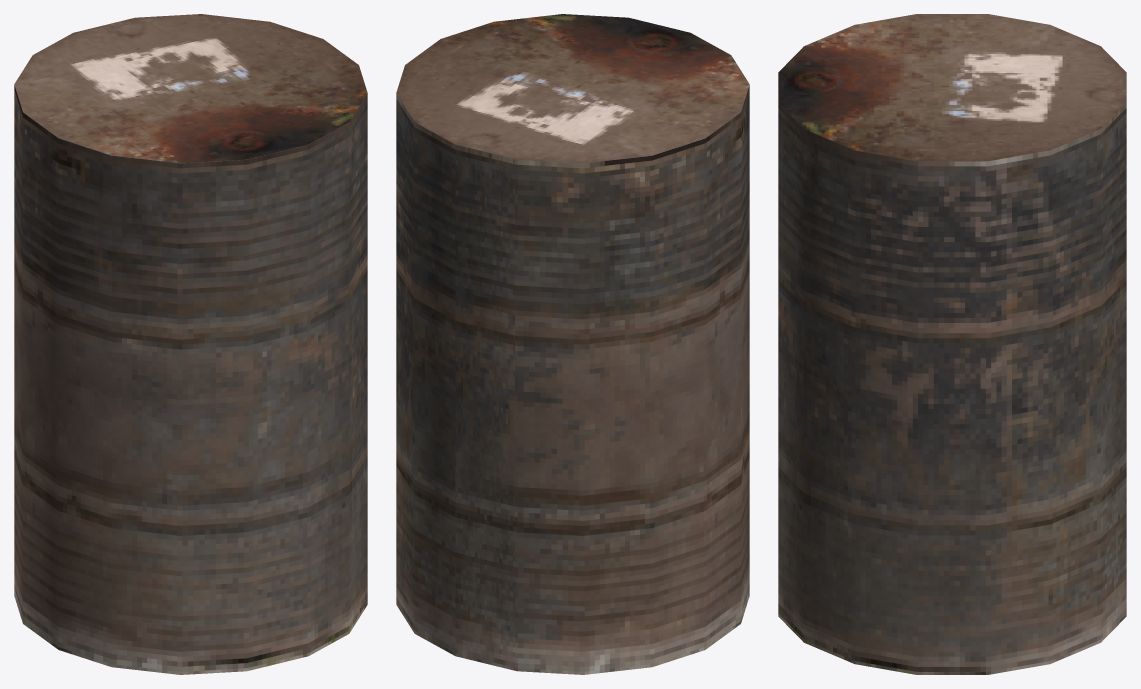
The model's file is _Barrel_1_LOD00.FBX.
3 renders of one model, left to right at view 1: azimuth 30°, elevation 25°; view 2: azimuth 150°, elevation 25°; view 3: azimuth 270°, elevation 25°, orthographic.
Visible parts, largest first — view 1: _Barrel_1_LOD00; view 2: _Barrel_1_LOD00; view 3: _Barrel_1_LOD00.
Boxes of the visible parts, bbox=[...] form: _Barrel_1_LOD00: bbox=[14, 14, 367, 674]; _Barrel_1_LOD00: bbox=[396, 14, 749, 674]; _Barrel_1_LOD00: bbox=[778, 14, 1126, 674].
Size of the model in its own units: 46.08 by 75 by 46.08.
3 materials, 3 textured.
